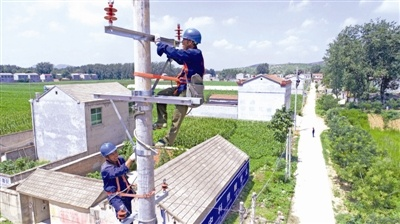blue: (178, 27, 203, 51), (100, 140, 118, 163)
